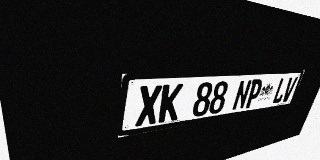8: (191, 82, 215, 117), (207, 81, 230, 115)
K: (158, 83, 184, 123)
L: (271, 77, 290, 104)
N: (231, 80, 252, 111)
P: (244, 79, 264, 109)
V: (280, 77, 298, 103)
X: (135, 85, 162, 127)
